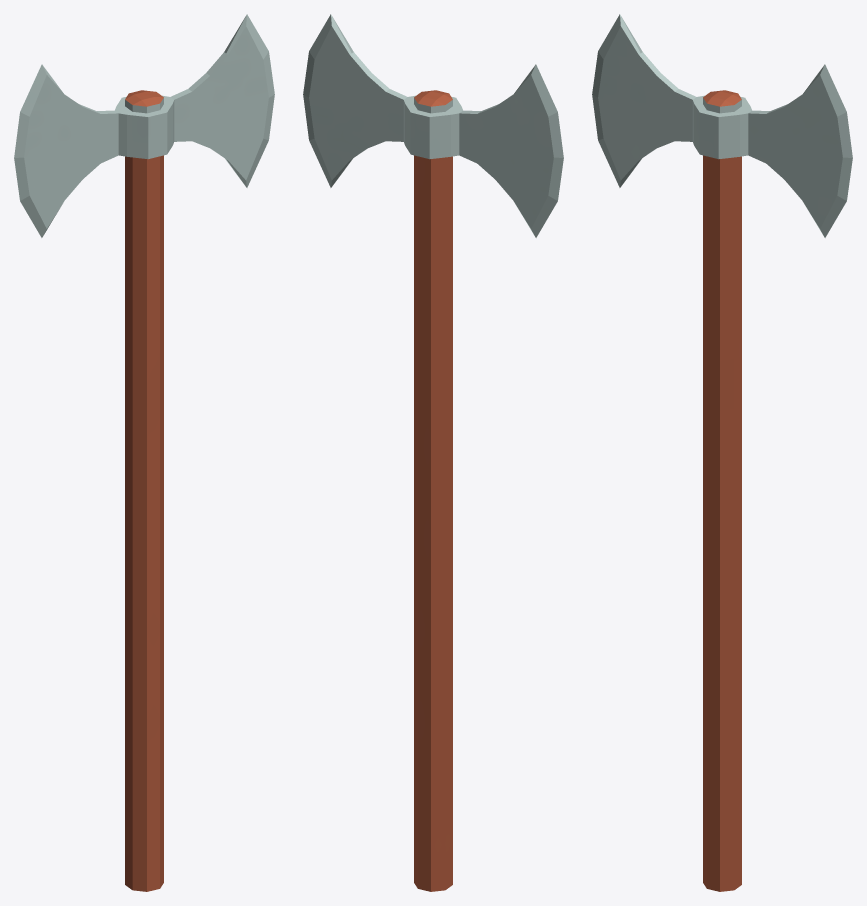
The model's file is GiantAxe.glb.
3 views of the same model, side by side, from view 1: azimuth 30°, elevation 25°; view 2: azimuth 150°, elevation 25°; view 3: azimuth 330°, elevation 25° (orthographic).
Parts seen in each view (by area): view 1: Two handed double axe; view 2: Two handed double axe; view 3: Two handed double axe.
Part boxes in pixels (left/top/right/bottom): Two handed double axe: left=14, top=14, right=274, bottom=891; Two handed double axe: left=303, top=14, right=563, bottom=891; Two handed double axe: left=592, top=14, right=852, bottom=891.
Bounding box in the file's own units: 0.4233 × 1.31 × 0.0743.
Materials: 1 (1 with a texture image).
